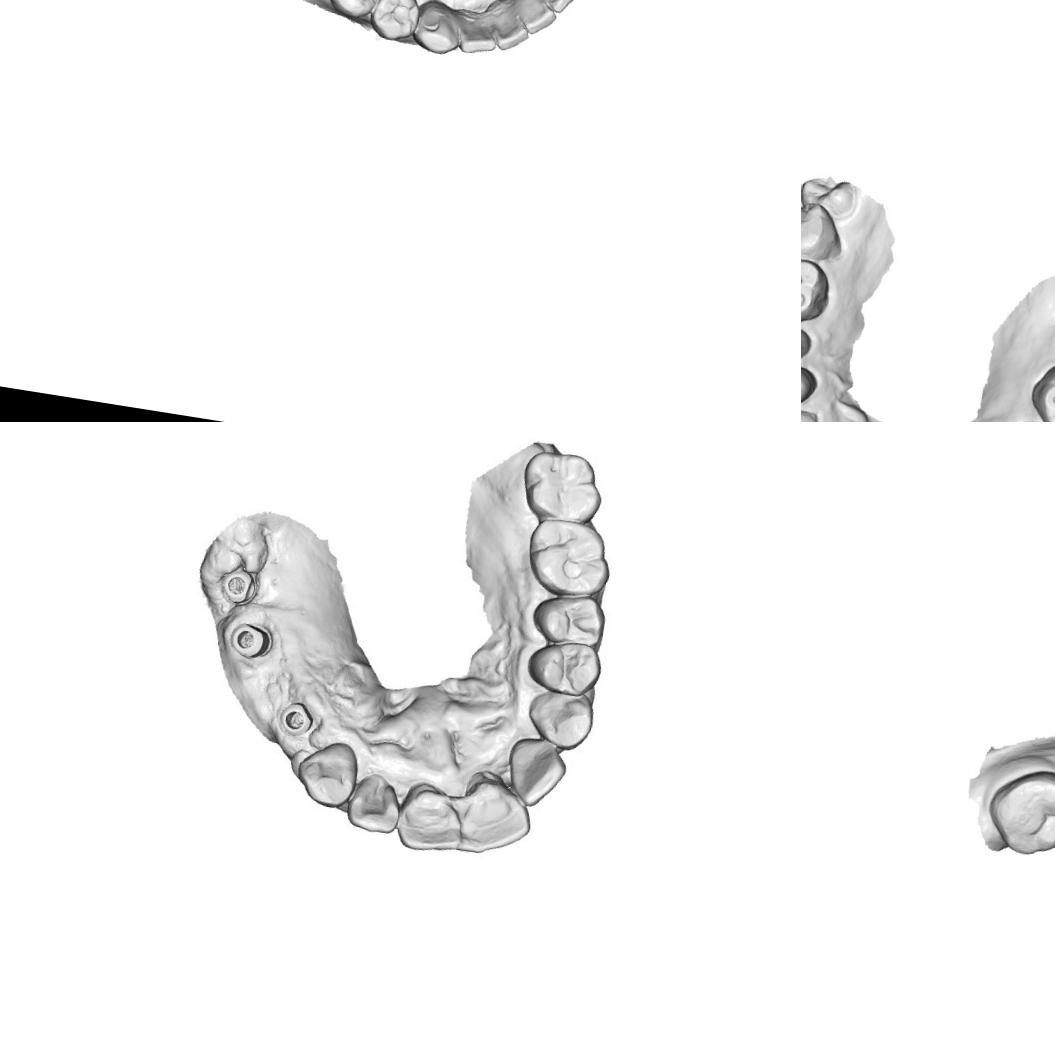canine: (292, 733, 369, 815), (520, 685, 596, 754), (410, 0, 466, 58)
implant: (272, 690, 322, 742), (226, 618, 273, 664), (216, 564, 259, 607)
incisor: (456, 773, 535, 860), (396, 788, 469, 856), (341, 769, 404, 836), (507, 736, 567, 806), (482, 1, 535, 55), (453, 6, 502, 58), (507, 0, 560, 38), (527, 0, 584, 17)
molar: (524, 512, 616, 600), (518, 444, 608, 528), (986, 758, 1055, 867), (801, 194, 849, 268), (801, 250, 835, 332), (1023, 356, 1055, 422)
premolar: (522, 636, 604, 697), (530, 591, 604, 644), (366, 0, 423, 44), (324, 0, 388, 23), (801, 357, 821, 422)
